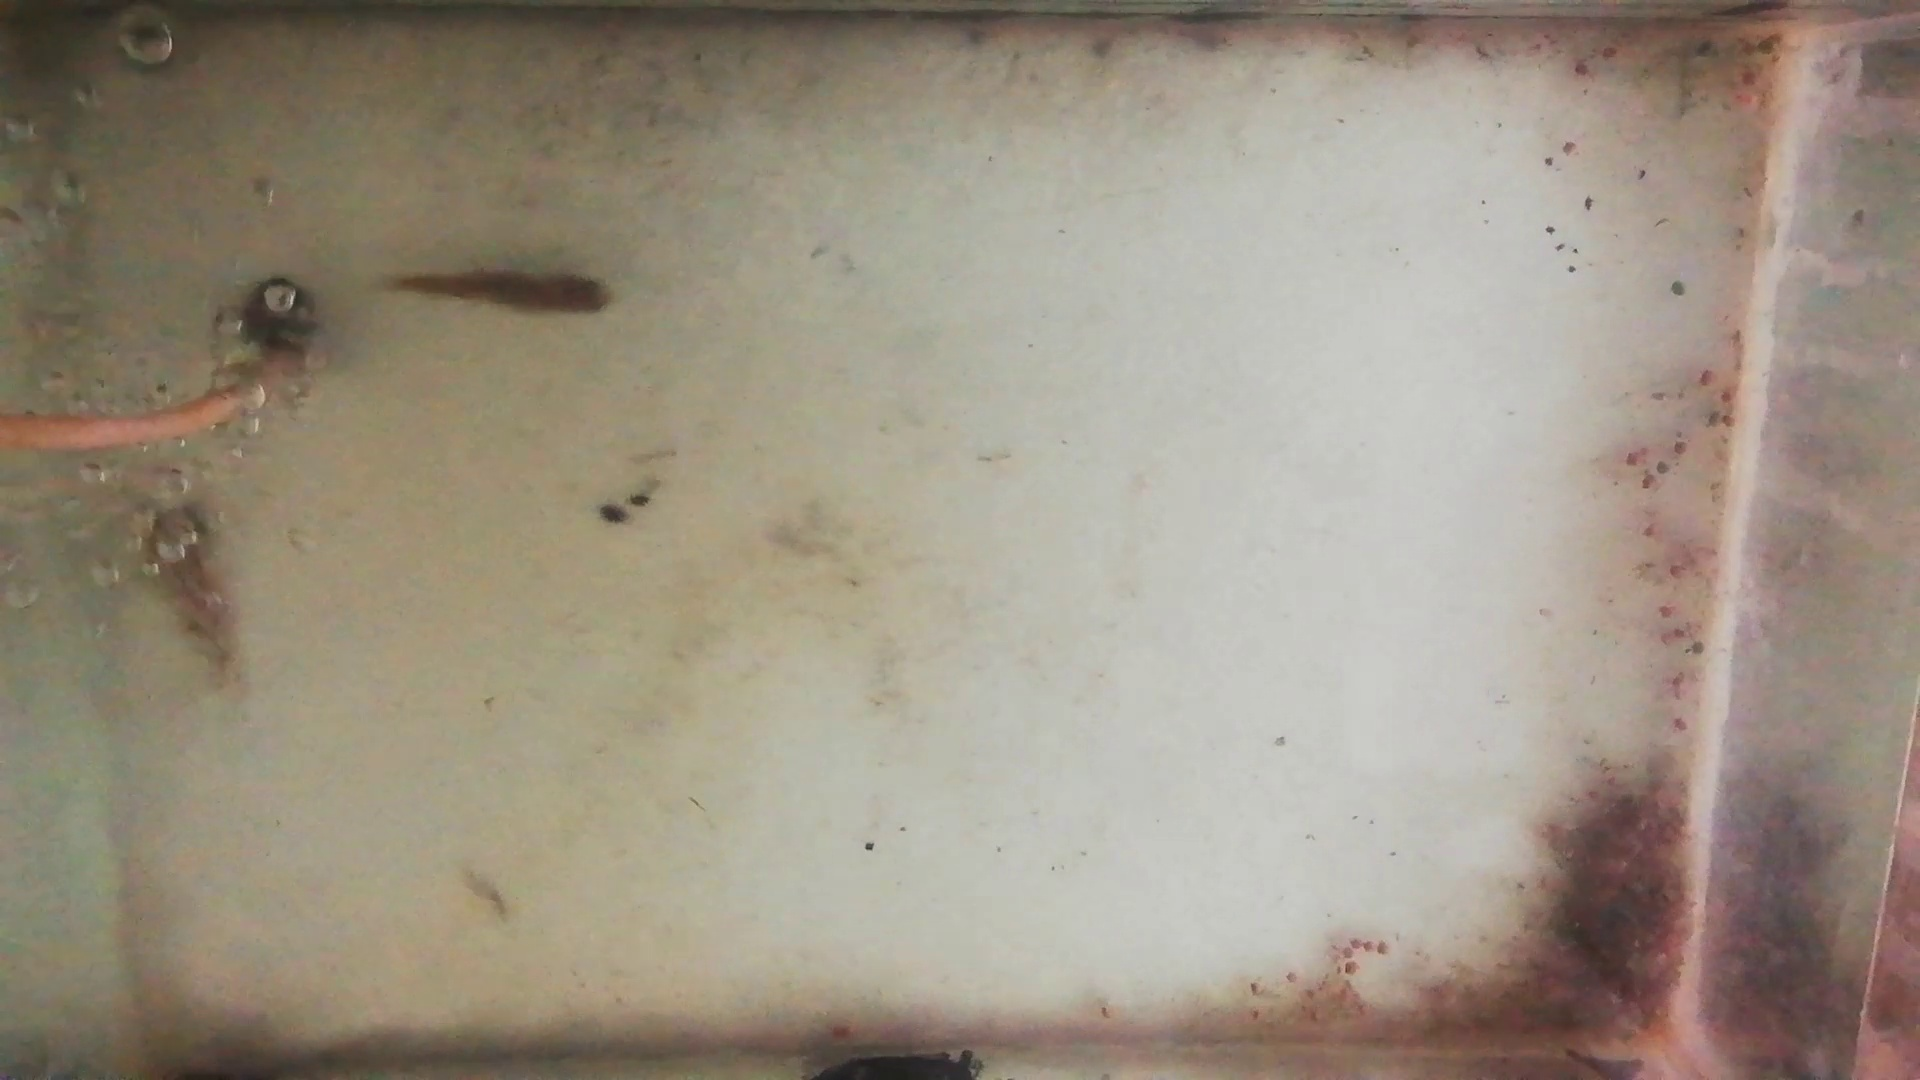fish: (135, 473, 243, 670), (378, 274, 616, 316)
